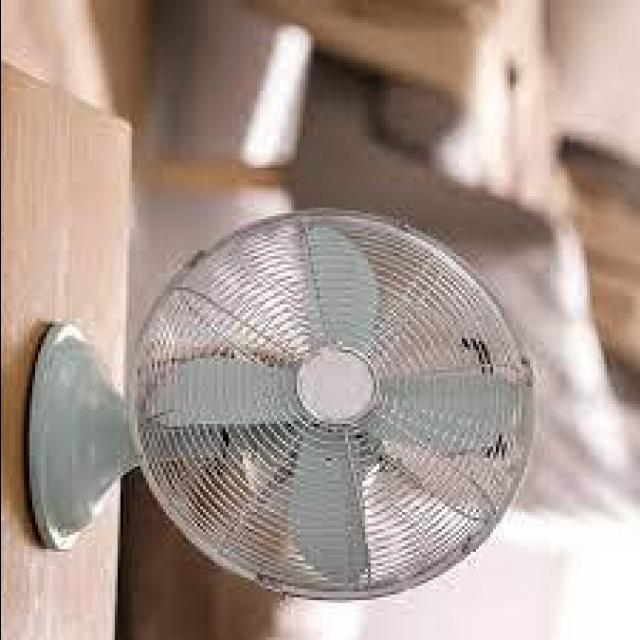fan: (25, 189, 529, 602)
